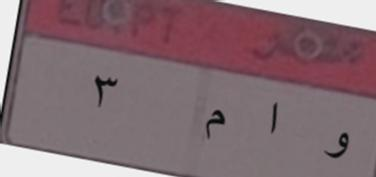3: (85, 61, 126, 115)
alif: (258, 94, 287, 143)
meem: (190, 104, 243, 149)
waw: (310, 123, 358, 170)
